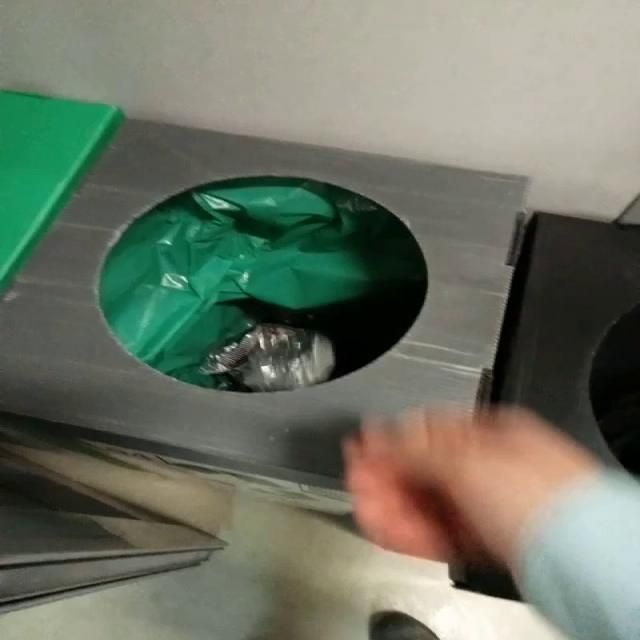Bin: (1, 119, 528, 489)
Metal: (201, 324, 335, 392)
